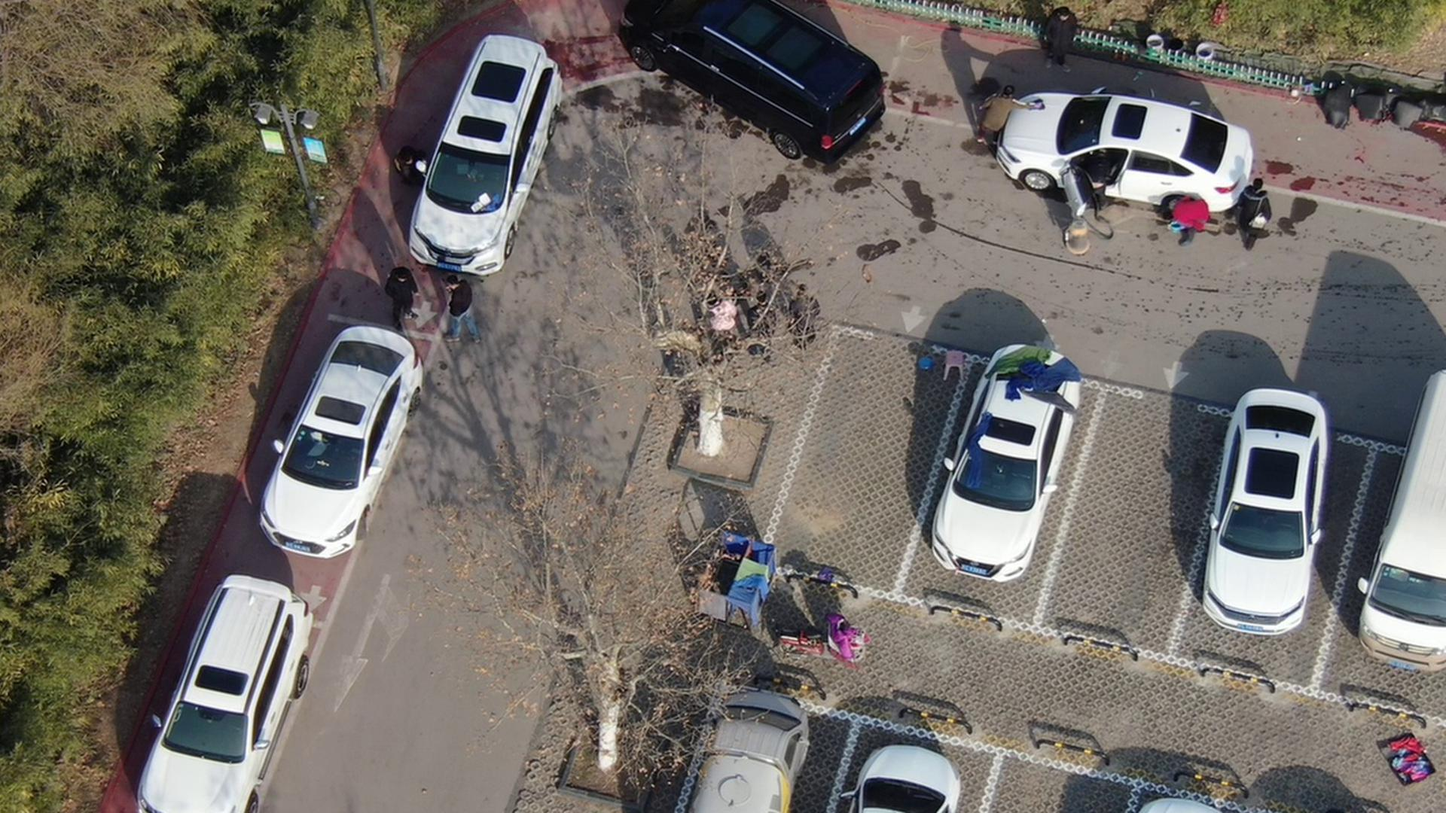human: (980, 81, 1051, 142), (389, 258, 429, 335), (789, 285, 828, 358), (448, 271, 484, 349), (1045, 1, 1084, 72), (746, 285, 781, 361), (1243, 177, 1277, 254), (1162, 194, 1216, 241), (1086, 142, 1119, 211), (398, 142, 436, 190)
